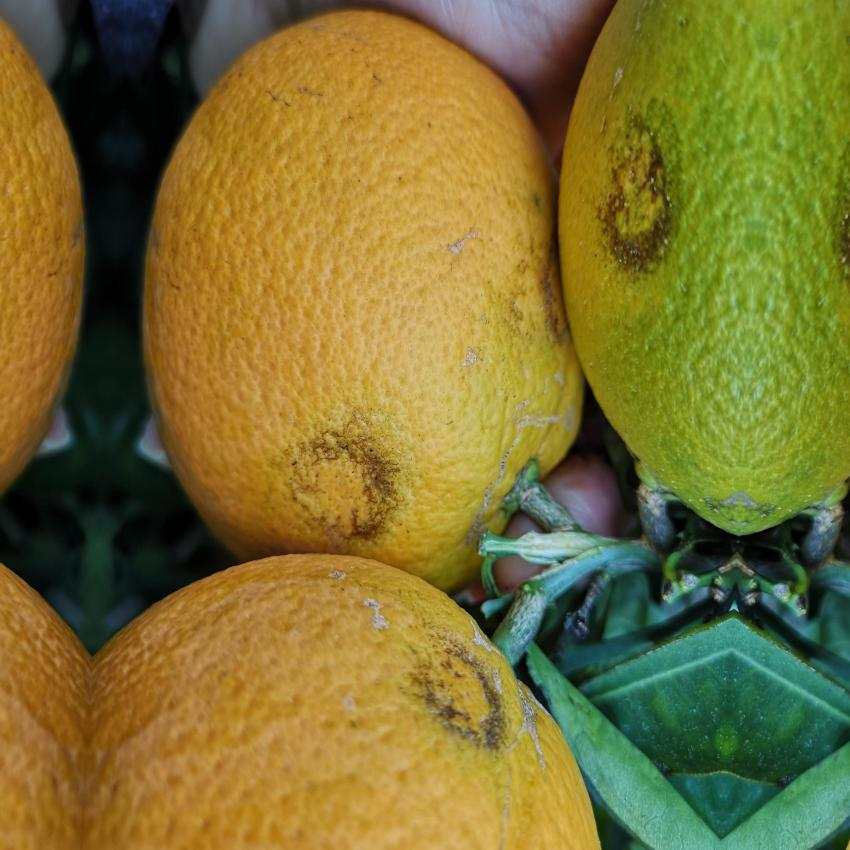Mal estado: (128, 5, 600, 620), (550, 0, 850, 551), (87, 553, 612, 848)
